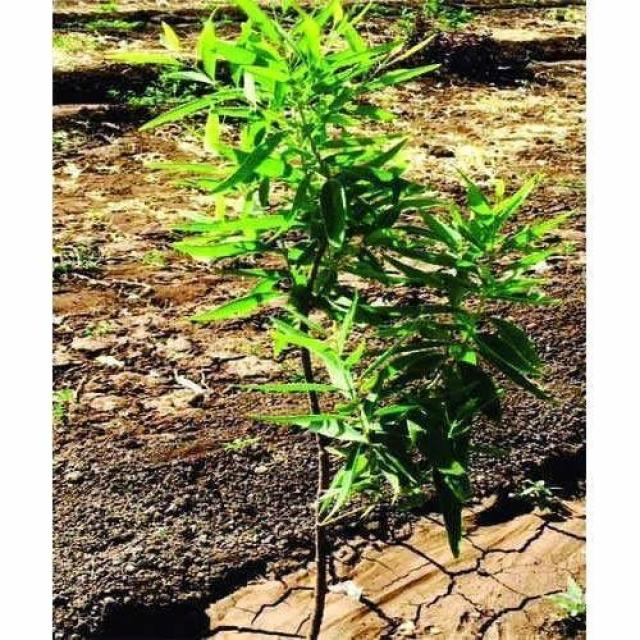Medicinal-Sandalwood: (138, 11, 564, 619)
